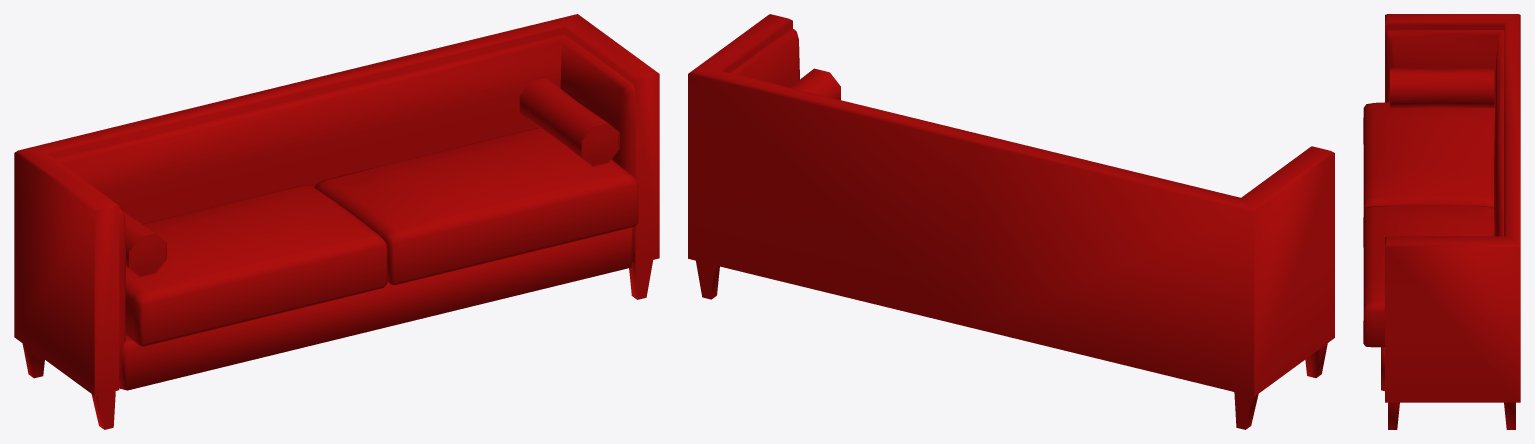
The model's file is couch__low_poly.glb.
3 views of the same model, side by side, from view 1: azimuth 30°, elevation 25°; view 2: azimuth 150°, elevation 25°; view 3: azimuth 270°, elevation 25° (orthographic). The views are drawn at different scales.
Parts seen in each view (by area): view 1: Couch_02_Couch_02_0; view 2: Couch_02_Couch_02_0; view 3: Couch_02_Couch_02_0.
Part boxes in pixels (bbox=[...]): Couch_02_Couch_02_0: bbox=[14, 14, 659, 429]; Couch_02_Couch_02_0: bbox=[688, 14, 1334, 429]; Couch_02_Couch_02_0: bbox=[1363, 14, 1520, 429].
Bounding box in the file's own units: 3.41 × 1.3 × 0.9762.
